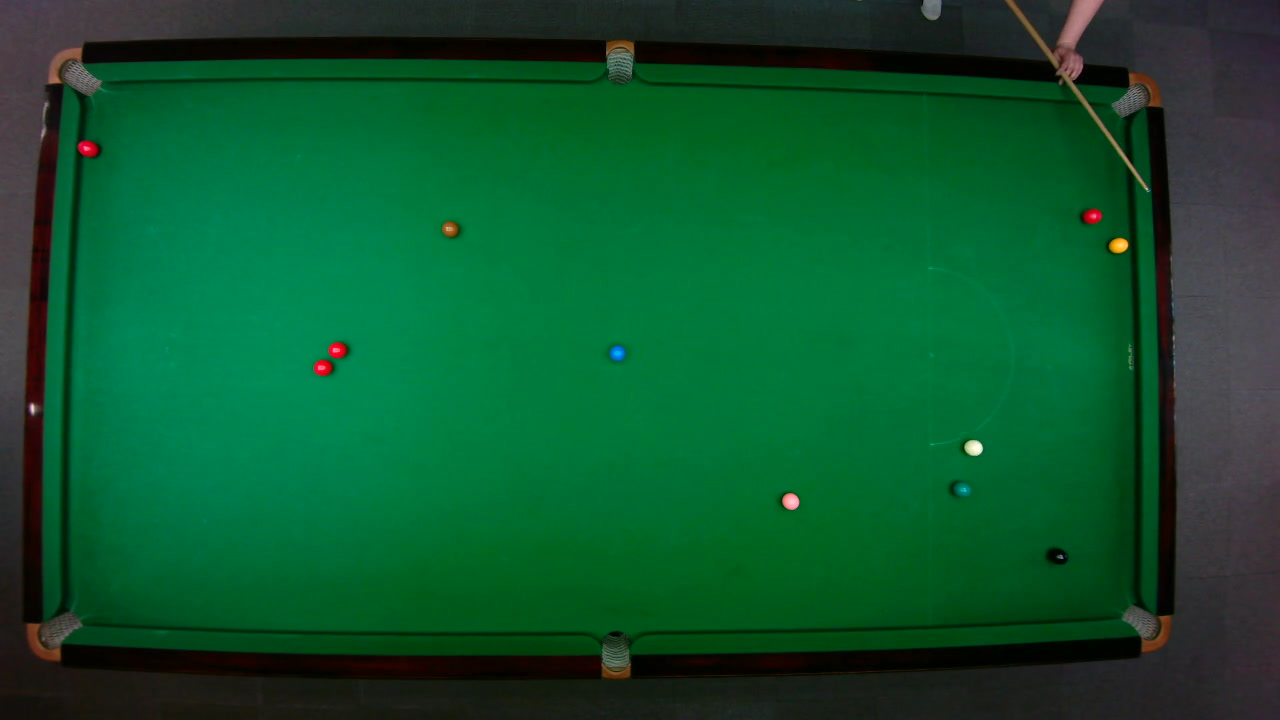bag: (24, 609, 83, 661), (45, 46, 102, 96), (1119, 603, 1171, 652), (1109, 71, 1161, 117), (600, 629, 629, 680), (605, 38, 633, 85)
black: (1047, 546, 1068, 565)
blue: (608, 344, 625, 361)
brown: (440, 220, 459, 237)
cue: (1004, 0, 1153, 197)
green: (950, 480, 972, 497)
pink: (780, 491, 800, 510)
red: (75, 139, 100, 158), (311, 357, 333, 376), (326, 340, 347, 358), (1081, 207, 1103, 224)
white: (962, 438, 983, 456)
yellow: (1107, 236, 1129, 253)
zone: (927, 265, 1013, 444)
